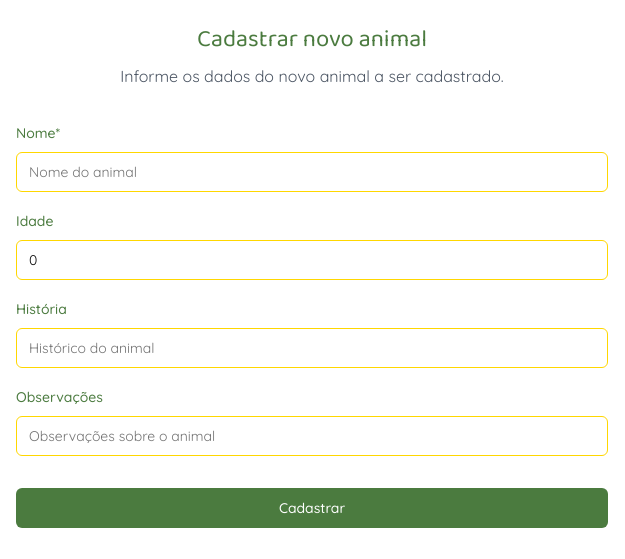
pages / add animals › should show error messages when form is not properly filled out
Click the button at (312, 508), box top-left (16, 488), bottom-right (608, 528)
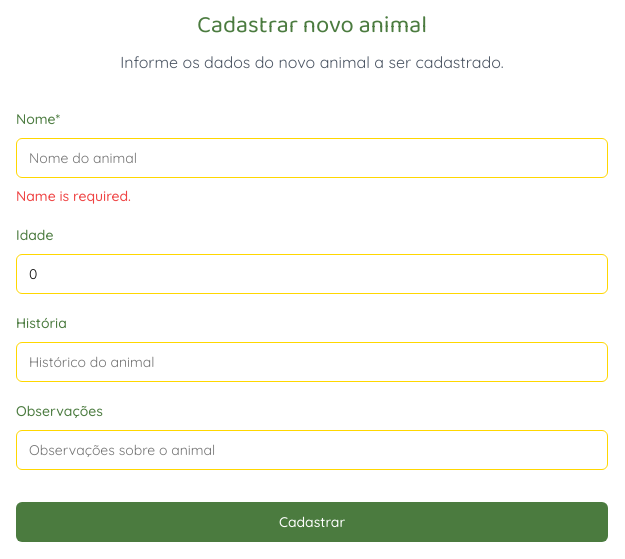
Check: the text "Name is required." is shown, box top-left (16, 187), bottom-right (131, 205)
